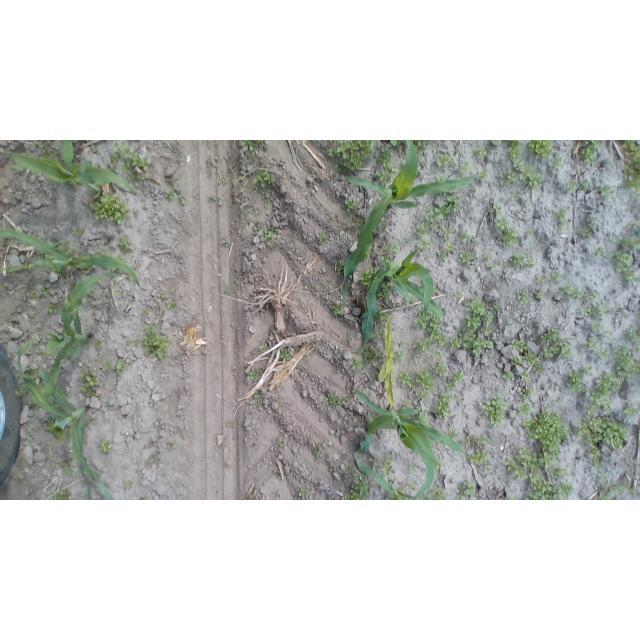Maize: (342, 141, 477, 316), (16, 341, 115, 500), (347, 382, 466, 500), (30, 273, 129, 406), (354, 249, 443, 356), (1, 228, 144, 288), (2, 141, 138, 196)
Weeds: (449, 297, 493, 356), (578, 417, 627, 468), (524, 413, 566, 456), (106, 143, 151, 180), (331, 141, 374, 172), (525, 465, 561, 499), (87, 194, 129, 223), (416, 310, 447, 347), (138, 324, 170, 358), (343, 461, 369, 500), (613, 345, 639, 379), (624, 140, 640, 192), (513, 159, 540, 188), (599, 480, 636, 500), (485, 396, 508, 427), (379, 147, 399, 182), (518, 449, 556, 467), (545, 340, 576, 361), (238, 140, 267, 161), (79, 369, 99, 398), (436, 197, 461, 220), (506, 457, 528, 481), (594, 376, 621, 395), (616, 263, 640, 282), (525, 352, 544, 375), (416, 367, 435, 390), (566, 370, 584, 394), (530, 140, 554, 158), (578, 302, 602, 319), (437, 392, 452, 418), (540, 328, 560, 346), (437, 241, 458, 257), (325, 392, 350, 405), (399, 372, 417, 390), (363, 346, 383, 362), (458, 480, 476, 497), (562, 284, 583, 298), (501, 228, 518, 245), (254, 172, 273, 187), (413, 337, 433, 351), (553, 481, 573, 495), (507, 140, 522, 158), (422, 203, 435, 223), (427, 487, 447, 500), (582, 145, 596, 163), (359, 267, 373, 285), (436, 154, 455, 167), (614, 253, 633, 266), (62, 457, 75, 476), (586, 389, 602, 404), (472, 449, 488, 464), (621, 235, 639, 248), (626, 327, 640, 343), (113, 358, 127, 374), (419, 239, 434, 253), (460, 250, 476, 263), (552, 468, 568, 481), (312, 442, 324, 458), (54, 239, 70, 251), (518, 401, 531, 415), (513, 340, 528, 352), (475, 146, 487, 161), (584, 288, 597, 301), (601, 400, 614, 413), (350, 358, 363, 371), (623, 404, 637, 416), (521, 388, 535, 400), (388, 242, 402, 254), (509, 254, 523, 266), (119, 238, 131, 252), (589, 337, 600, 352), (477, 436, 492, 447), (558, 206, 567, 224), (458, 163, 470, 176), (504, 172, 517, 184), (414, 266, 427, 278), (431, 347, 442, 361), (450, 371, 462, 383), (443, 227, 455, 239), (383, 456, 391, 474), (72, 226, 84, 238), (51, 492, 69, 500), (345, 199, 356, 212), (496, 219, 508, 230), (460, 231, 472, 242), (278, 349, 290, 360), (382, 283, 394, 294), (444, 381, 457, 391), (418, 413, 428, 426), (550, 273, 563, 283), (100, 440, 110, 453), (264, 228, 273, 242), (421, 389, 431, 401), (435, 366, 447, 376), (581, 225, 591, 237), (598, 350, 611, 359), (601, 184, 609, 198), (534, 289, 544, 300), (518, 294, 529, 304), (583, 365, 593, 376), (586, 405, 597, 415), (593, 140, 604, 150), (395, 351, 405, 362), (407, 296, 418, 306), (354, 218, 365, 228), (15, 388, 25, 399), (337, 259, 344, 274), (415, 140, 428, 148), (587, 218, 600, 226), (592, 321, 602, 331), (503, 371, 513, 381), (520, 372, 530, 382), (554, 157, 564, 167), (492, 205, 502, 215), (139, 307, 149, 317), (436, 459, 445, 470), (381, 311, 390, 322), (125, 340, 139, 347), (254, 223, 262, 235), (375, 329, 384, 339), (222, 238, 231, 248), (381, 219, 390, 229), (166, 175, 175, 185), (536, 276, 544, 287), (629, 221, 640, 229), (332, 305, 340, 316), (261, 197, 269, 208), (299, 487, 306, 499), (317, 233, 326, 242), (116, 290, 125, 299), (106, 361, 115, 370), (48, 305, 57, 314), (455, 289, 463, 299), (511, 191, 519, 201), (525, 229, 535, 237), (595, 247, 603, 257), (462, 437, 470, 447), (448, 429, 456, 439), (370, 456, 378, 466), (165, 190, 175, 198), (437, 175, 448, 182), (430, 223, 441, 230), (481, 169, 489, 178), (567, 182, 575, 191), (170, 302, 179, 310), (515, 355, 522, 365), (225, 461, 232, 471), (208, 195, 218, 202), (25, 366, 33, 374), (125, 480, 133, 488), (613, 231, 620, 240), (492, 141, 502, 147), (528, 258, 534, 268), (371, 140, 377, 150), (28, 289, 34, 299), (494, 302, 501, 310), (583, 182, 590, 190), (168, 443, 176, 450), (381, 256, 390, 262), (402, 401, 409, 408), (279, 440, 285, 448), (225, 286, 231, 294), (180, 195, 186, 203), (161, 296, 170, 301), (489, 264, 496, 270), (485, 465, 492, 471), (371, 415, 378, 421), (41, 288, 47, 295), (228, 422, 235, 428), (305, 284, 312, 290), (133, 207, 139, 214), (250, 372, 255, 380), (254, 391, 259, 399), (377, 294, 385, 299), (259, 346, 265, 352), (71, 249, 77, 255), (207, 169, 213, 175), (411, 467, 416, 474), (329, 465, 334, 472), (357, 416, 362, 423), (72, 217, 77, 224), (208, 159, 213, 166), (604, 309, 609, 315), (400, 341, 405, 347), (222, 177, 226, 184), (485, 254, 490, 259), (606, 254, 611, 259), (613, 306, 619, 310), (416, 406, 422, 410), (398, 488, 402, 493), (343, 474, 348, 478), (253, 405, 258, 409), (255, 212, 260, 216), (638, 196, 640, 204), (410, 484, 413, 488)
